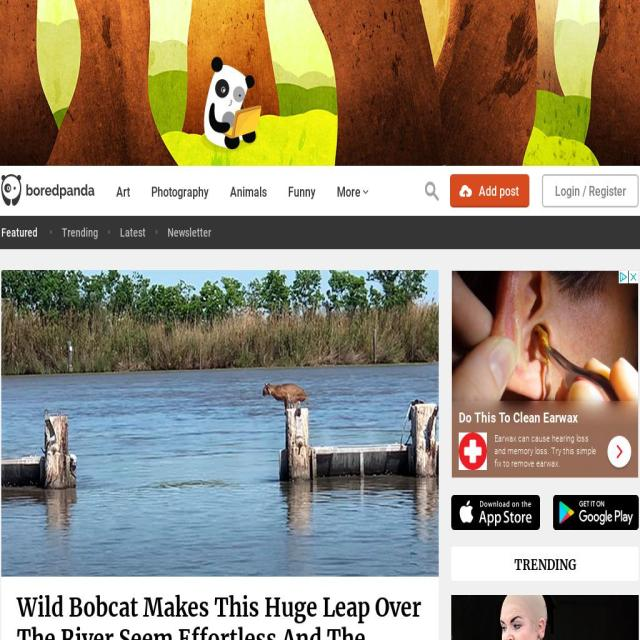button: (1, 270, 439, 577), (542, 174, 639, 208), (451, 495, 540, 530), (553, 495, 639, 530), (450, 174, 530, 208), (168, 216, 220, 249), (1, 216, 46, 249), (62, 216, 107, 249), (420, 166, 444, 216), (151, 186, 209, 206), (120, 216, 154, 249), (230, 186, 267, 206), (337, 186, 368, 206), (288, 186, 316, 206), (116, 186, 130, 206)
heading: (16, 591, 422, 640)
iframe: (451, 270, 639, 478)
image: (1, 270, 439, 577), (201, 57, 339, 153), (1, 174, 94, 206), (425, 182, 439, 200), (460, 185, 472, 197), (363, 188, 368, 197)
text: (451, 547, 639, 581), (476, 183, 520, 199), (337, 184, 363, 200)
